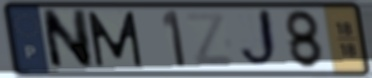1: (160, 9, 189, 70)
8: (283, 8, 327, 71)
J: (237, 7, 282, 71)
M: (85, 9, 146, 69)
N: (39, 8, 96, 71)
Z: (182, 10, 238, 68)
